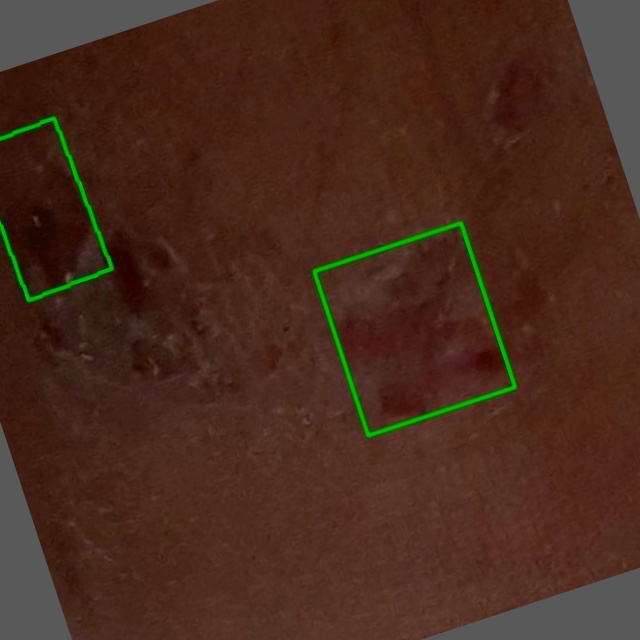Contact Dermatitis: (314, 222, 515, 435), (0, 118, 111, 300)
